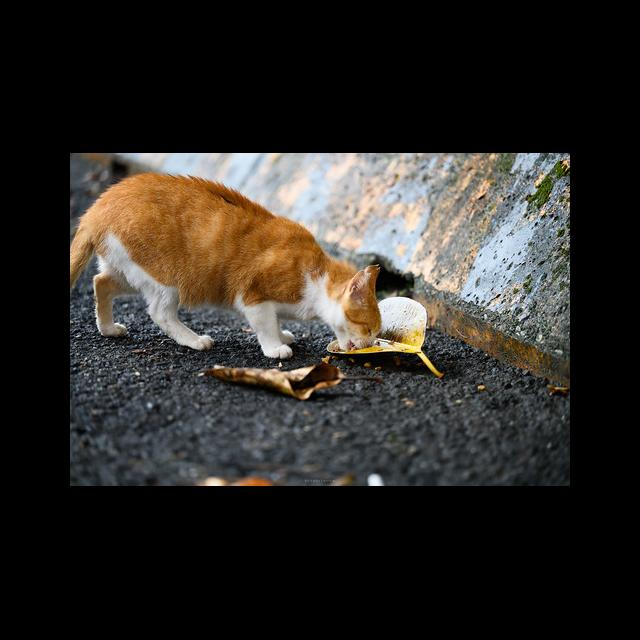animals: (72, 173, 383, 360)
